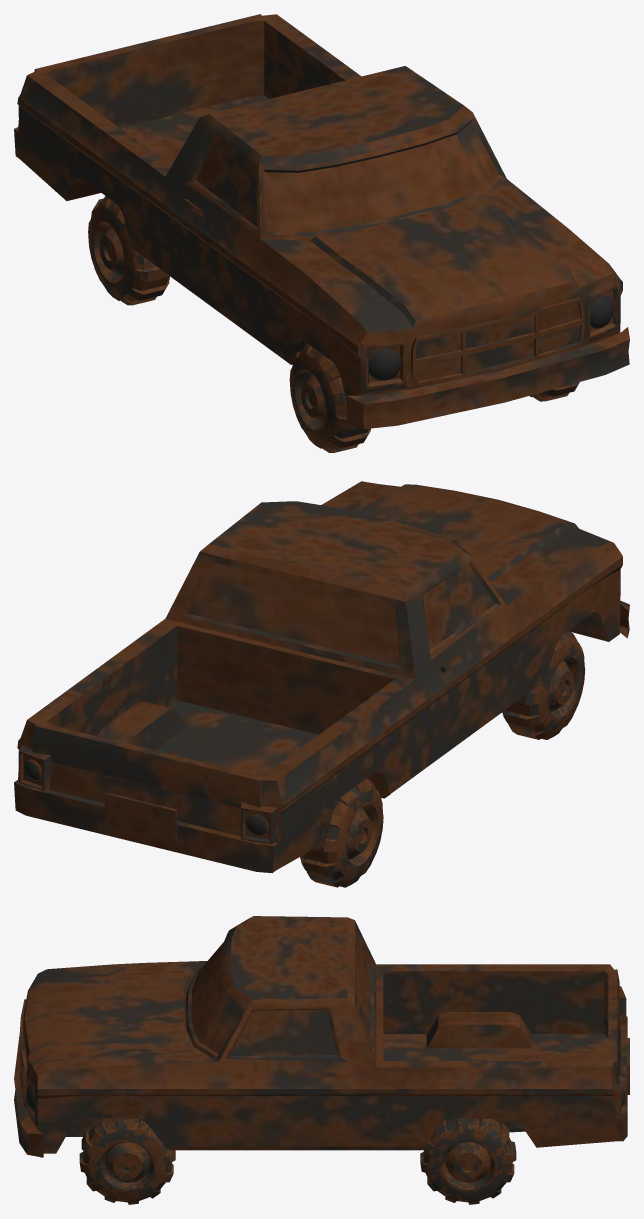
The model's file is wreck_pickup_burnt.glb.
The picture shows the model from 3 angles, top to bottom: view 1: azimuth 30°, elevation 25°; view 2: azimuth 150°, elevation 25°; view 3: azimuth 270°, elevation 25°; orthographic projection. The views are drawn at different scales.
Visible parts, largest first — view 1: Pickup, FrontWheel_R, BackWheels; view 2: Pickup, BackWheels, FrontWheel_R; view 3: Pickup, BackWheels, FrontWheel_L.
Part boxes in pixels (x1,y1,x2,y2): Pickup: (14,14,629,429); FrontWheel_R: (289,343,370,452); BackWheels: (88,196,169,305); Pickup: (14,481,629,873); BackWheels: (300,778,383,887); FrontWheel_R: (502,630,585,739); Pickup: (14,916,629,1157); BackWheels: (420,1118,516,1204); FrontWheel_L: (79,1118,175,1204).
Bounding box in the file's own units: 2.31 × 1.85 × 5.18.
2 materials, 1 textured.
